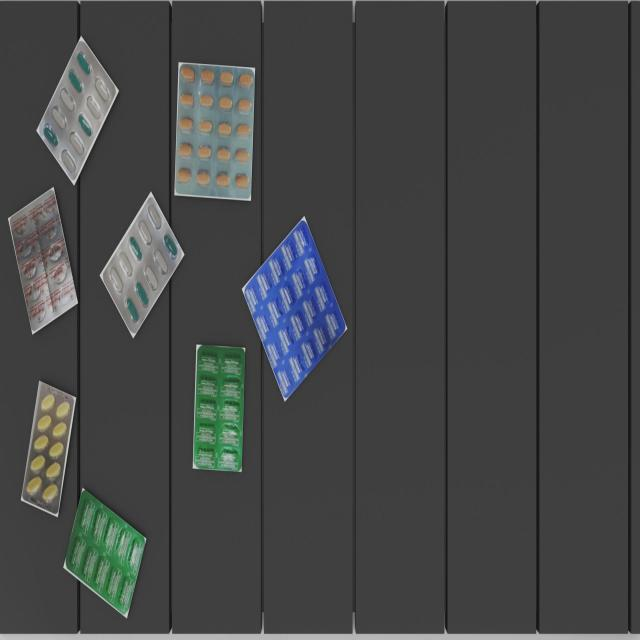blister: (248, 222, 348, 402), (101, 193, 180, 335), (175, 62, 254, 202), (39, 39, 115, 180), (66, 488, 146, 613), (12, 189, 78, 334), (23, 382, 75, 514), (193, 346, 245, 471)
